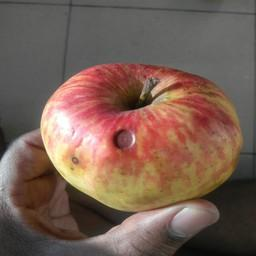Bad_apple: (37, 62, 248, 206)
